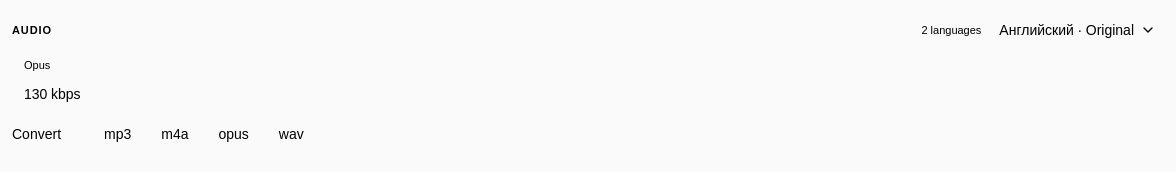
Scenario: AudioColumn › names the languages in the UI language, with the original marked
Click the dropdown with test id "audio-language": (1077, 30) [989, 12, 1164, 48]
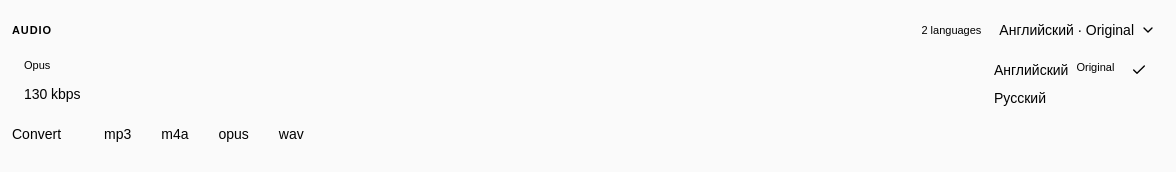
Check: the option "Русский" is shown, box [994, 88, 1046, 107]
